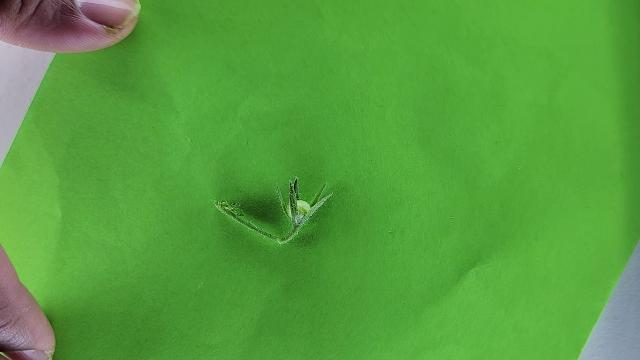Fruit Bud: (277, 176, 331, 239)
